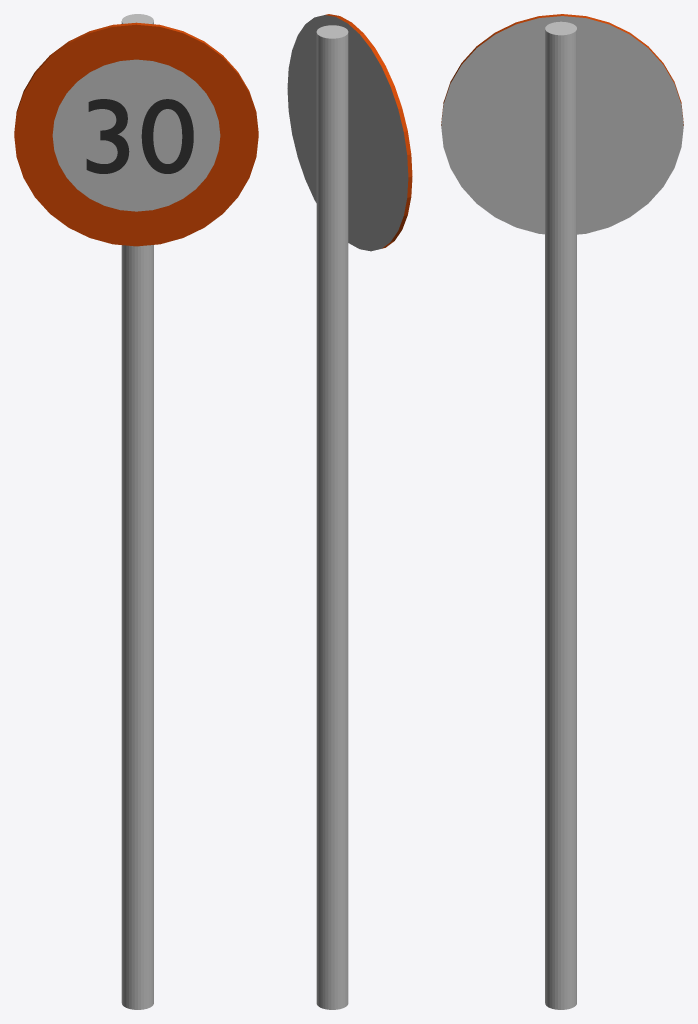
The model's file is Speed Limit 30.fbx.
The picture shows the model from 3 angles, left to right: view 1: azimuth 90°, elevation 25°; view 2: azimuth 210°, elevation 25°; view 3: azimuth 270°, elevation 25°; orthographic projection.
Visible parts, largest first — view 1: Text; view 2: Text; view 3: Text.
Part boxes in pixels (x1,y1,x2,y2): Text: (14,14,258,1009); Text: (287,14,412,1009); Text: (441,14,683,1009).
Bounding box in the file's own units: 244 × 6762 × 1518.
